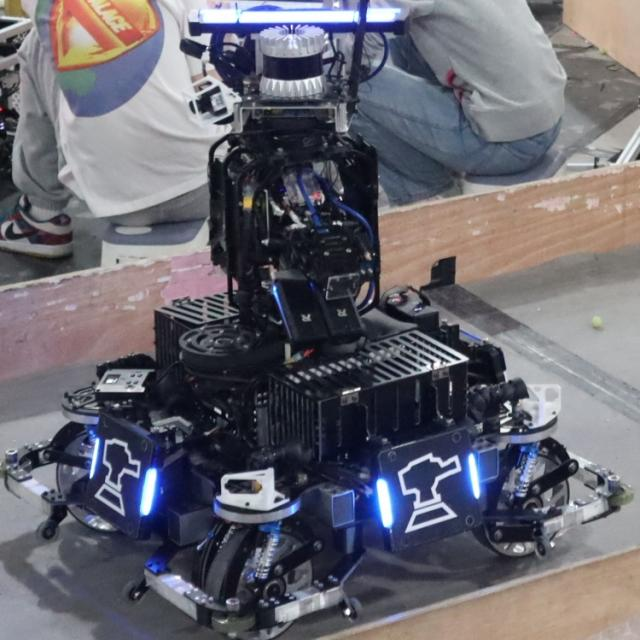Bs: (375, 446, 482, 532), (89, 429, 158, 521)
